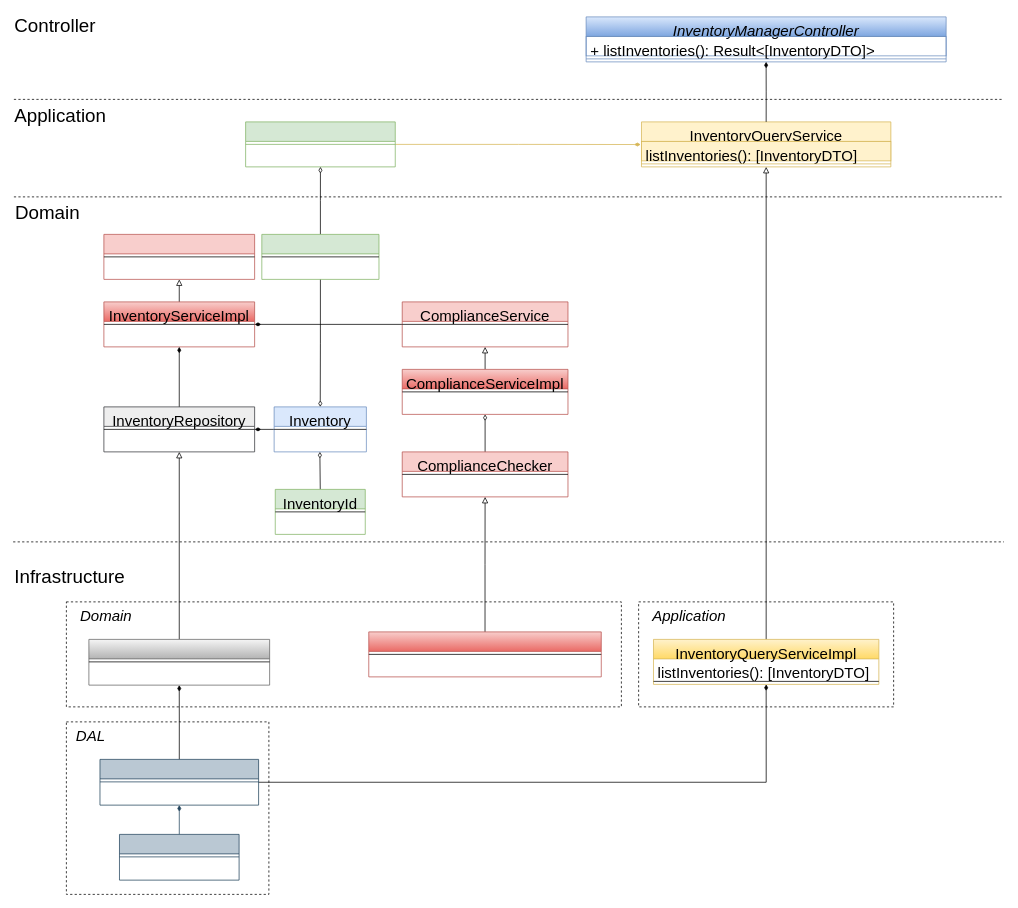
Some shapes in this 1018 by 908 pixel diagram are drawn without their labels. The centre of each missing label's shape, as x and y in pixels:
"InventoryDetail" goes at (x=320, y=256).
"InventoryDO" goes at (x=179, y=857).
"InventoryDOMapper" goes at (x=179, y=782).
"InventoryDTO" goes at (x=320, y=144).
"InventoryRepositoryImpl" goes at (x=179, y=662).
"InventoryService" goes at (x=179, y=256).
"RemoteComplianceCheckerImpl" goes at (x=484, y=654).
